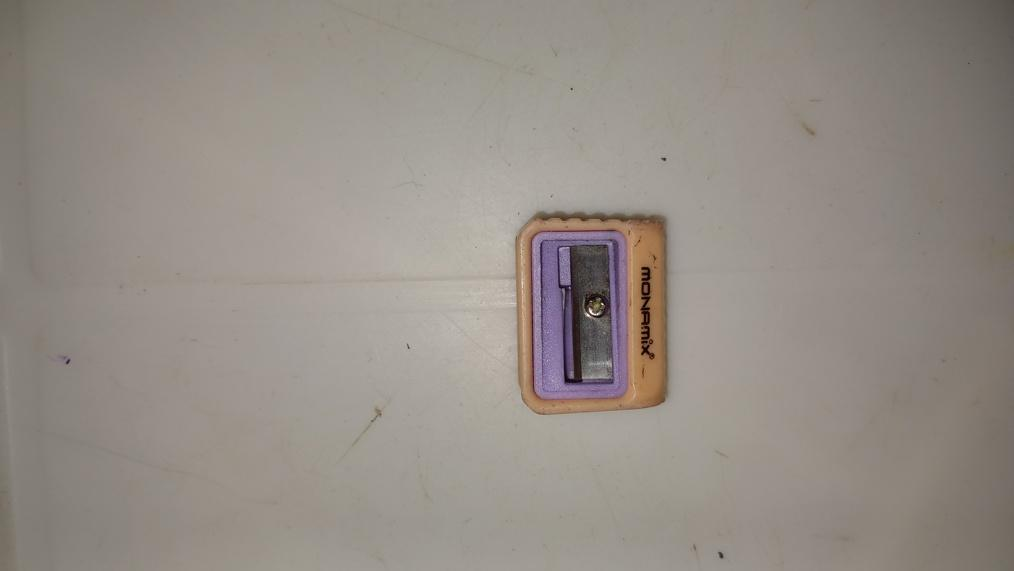Sharpener: (513, 212, 669, 413)
